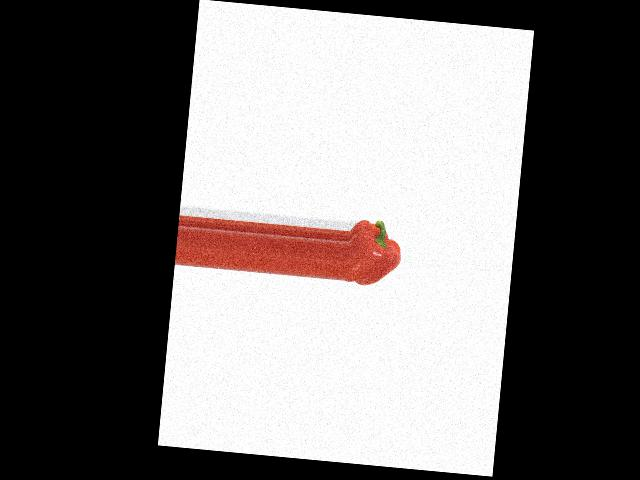bell_pepper: (343, 209, 405, 295)
